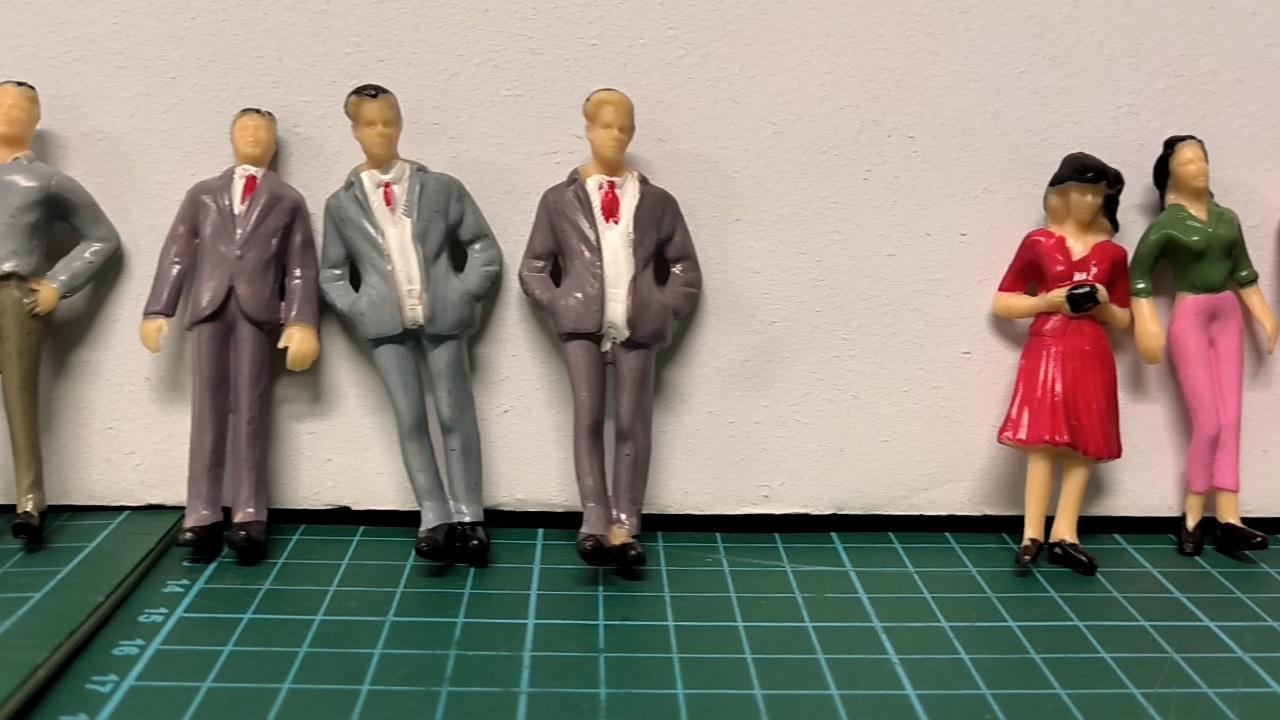human: (321, 84, 507, 574), (519, 90, 705, 578), (143, 112, 319, 556), (1130, 130, 1279, 562), (993, 148, 1130, 580), (1, 82, 121, 550)
